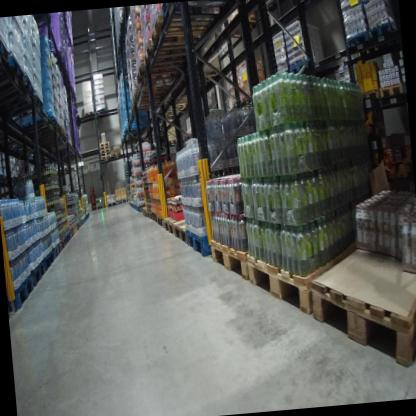pallet: (245, 235, 380, 347), (317, 222, 416, 371), (142, 29, 210, 70), (207, 232, 251, 289), (149, 15, 208, 48), (343, 21, 380, 61), (0, 72, 41, 107), (160, 0, 240, 17), (131, 79, 184, 104), (366, 18, 402, 52), (9, 271, 39, 311), (134, 61, 182, 84), (183, 224, 212, 260), (0, 53, 28, 90), (0, 96, 44, 119), (12, 114, 59, 134), (230, 11, 263, 38), (290, 58, 322, 80), (154, 101, 189, 121), (23, 128, 68, 142), (29, 259, 47, 292), (171, 215, 190, 246), (129, 98, 161, 115), (381, 80, 404, 102), (162, 211, 180, 236), (0, 21, 10, 62), (361, 86, 381, 102), (43, 249, 58, 270), (51, 242, 65, 264), (63, 232, 72, 250), (155, 212, 165, 227), (59, 234, 68, 249), (84, 108, 95, 120), (105, 200, 118, 210), (145, 208, 153, 222), (117, 197, 129, 206), (94, 108, 106, 117), (141, 204, 148, 218), (150, 209, 157, 223), (100, 141, 110, 148), (101, 154, 111, 161), (111, 150, 122, 156), (71, 225, 78, 234), (101, 147, 110, 153), (100, 145, 110, 150), (100, 151, 110, 156), (70, 228, 75, 237), (75, 222, 80, 231)
